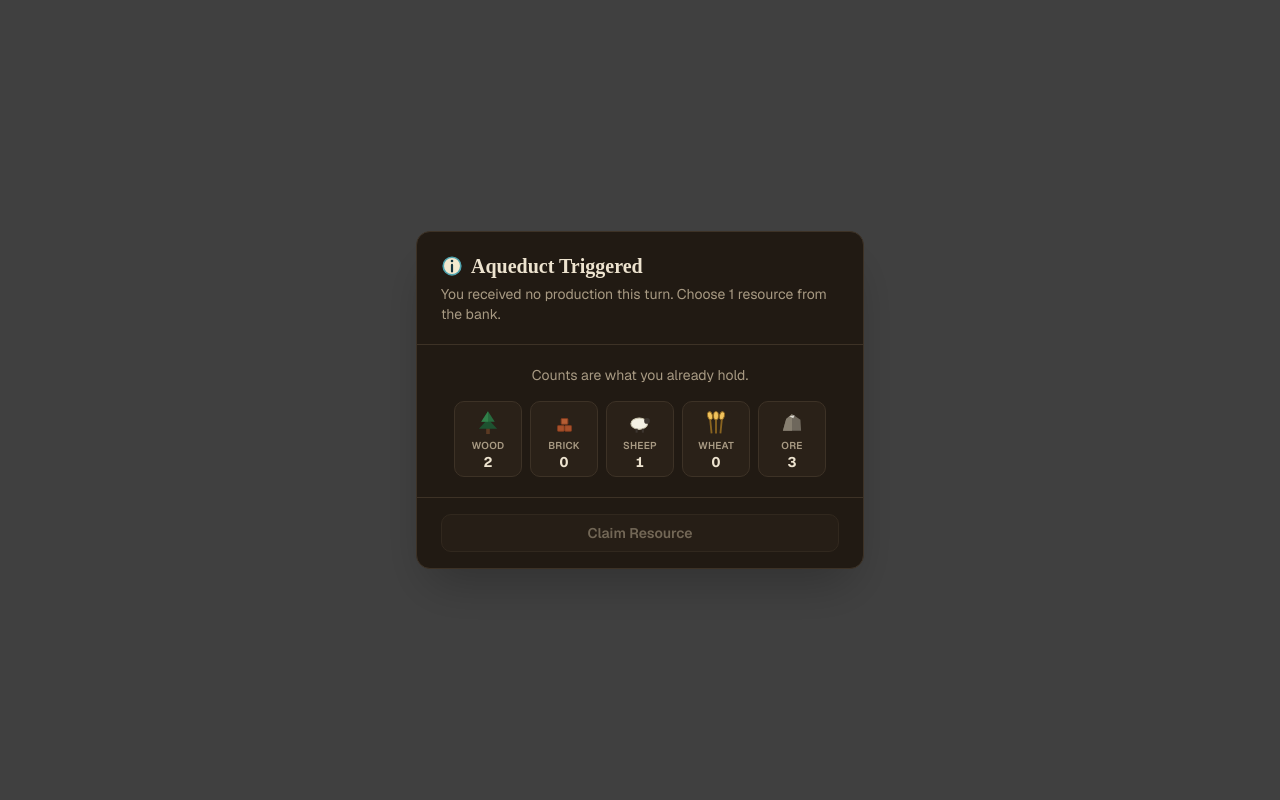
Scenario: AqueductModal › explains a failed claim instead of silently resetting
The width and height of the screenshot is (1280, 800).
Click the radio button with aria-label "Claim Wood" at (488, 439), box x1=454 y1=401 x2=522 y2=477
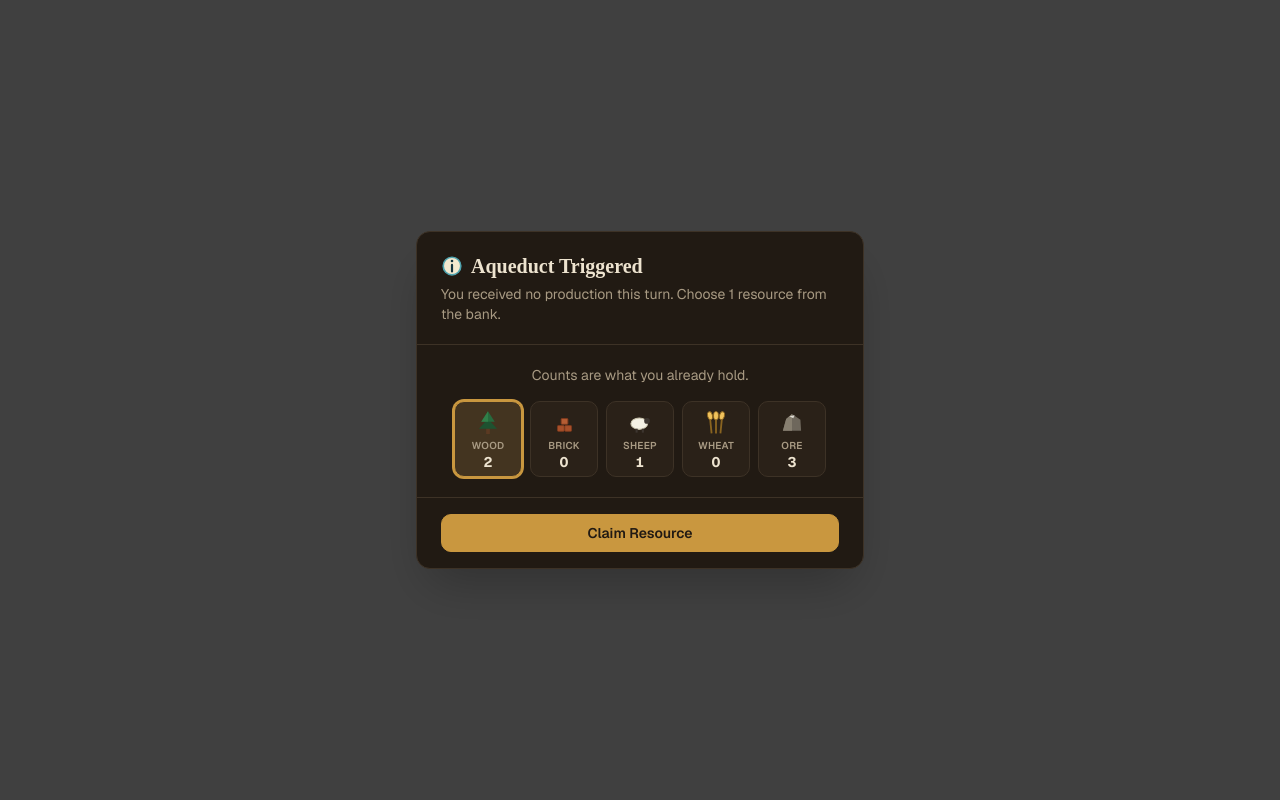
Click the button "Claim Resource" at (640, 533), box x1=441 y1=514 x2=839 y2=552
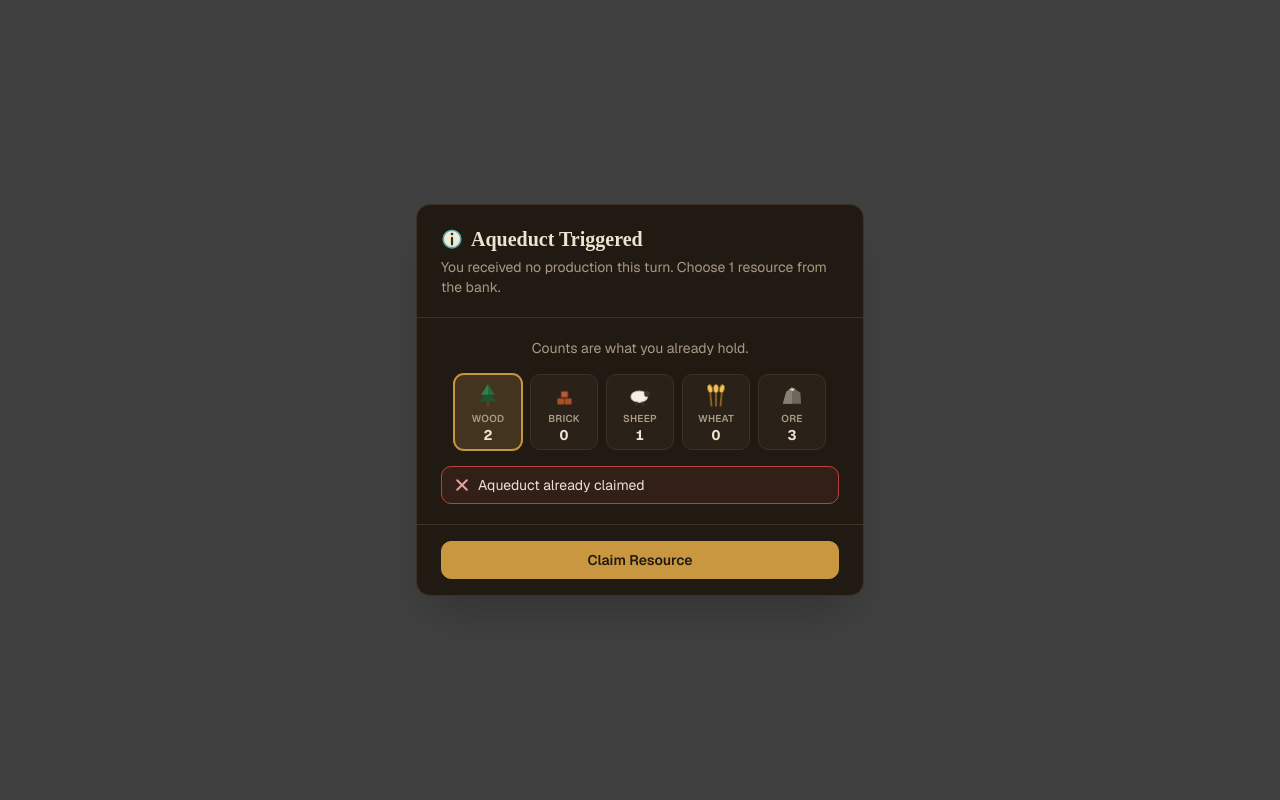
Now the message reads "Aqueduct already claimed", box x1=478 y1=476 x2=644 y2=494
